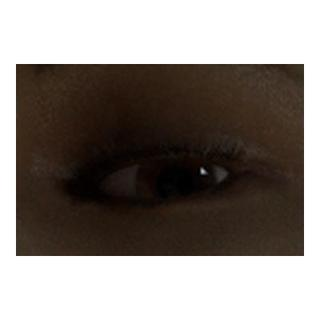pupil: (158, 168, 192, 202)
